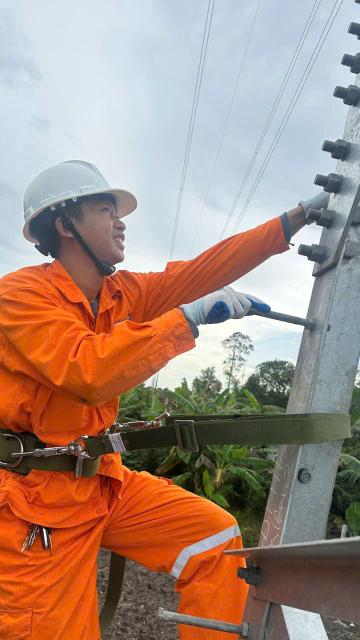gloves: (286, 170, 360, 233), (191, 284, 273, 337)
harness: (0, 402, 293, 480)
helmet: (6, 153, 156, 233)
